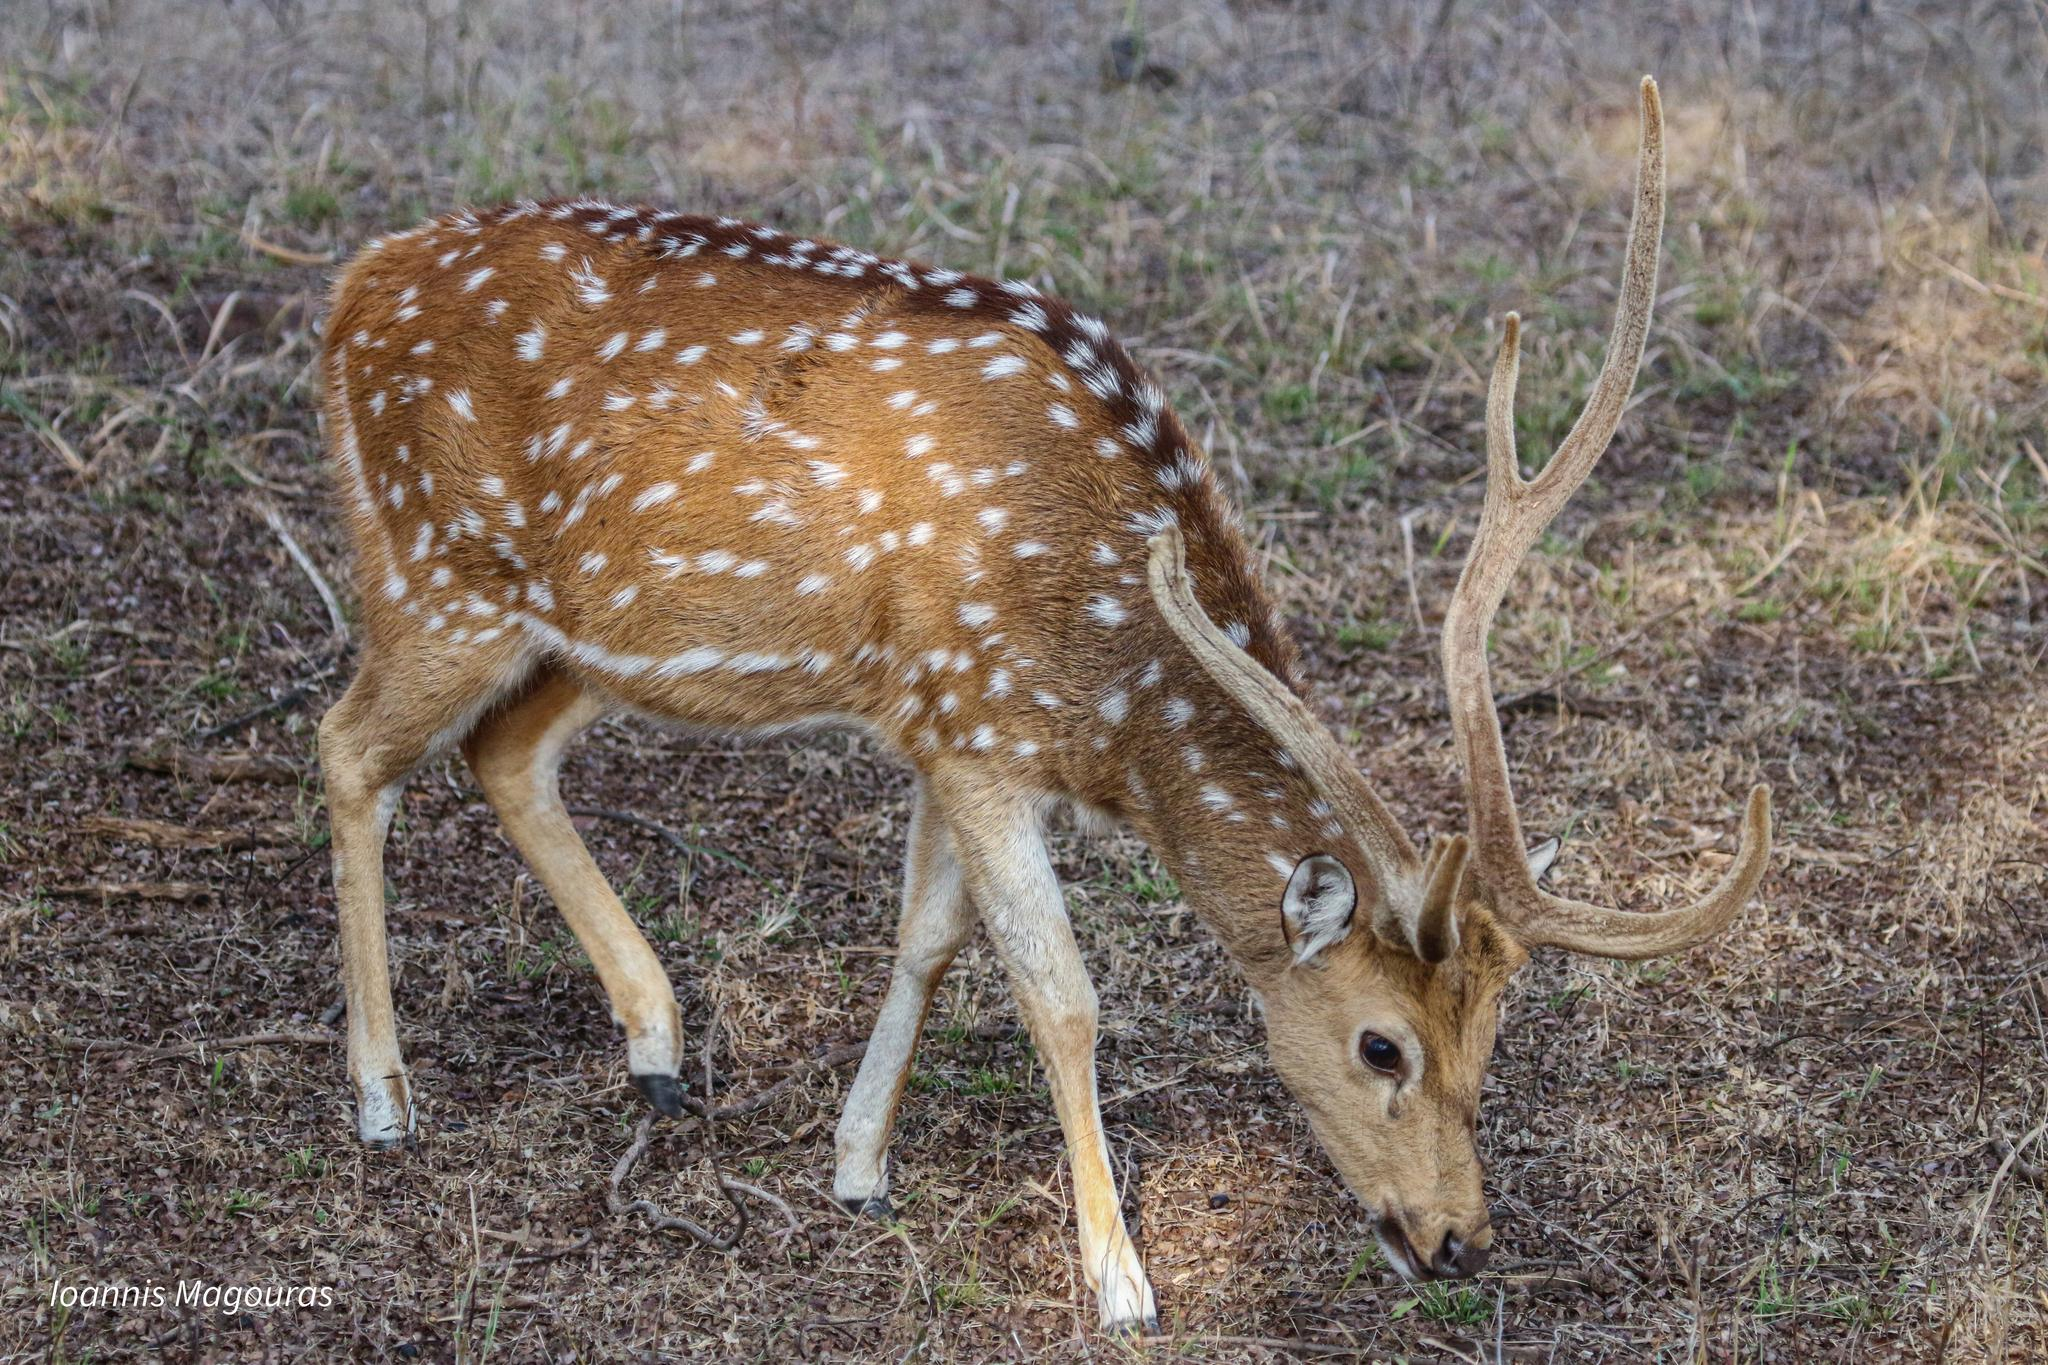Deer: (321, 81, 1771, 1330)
